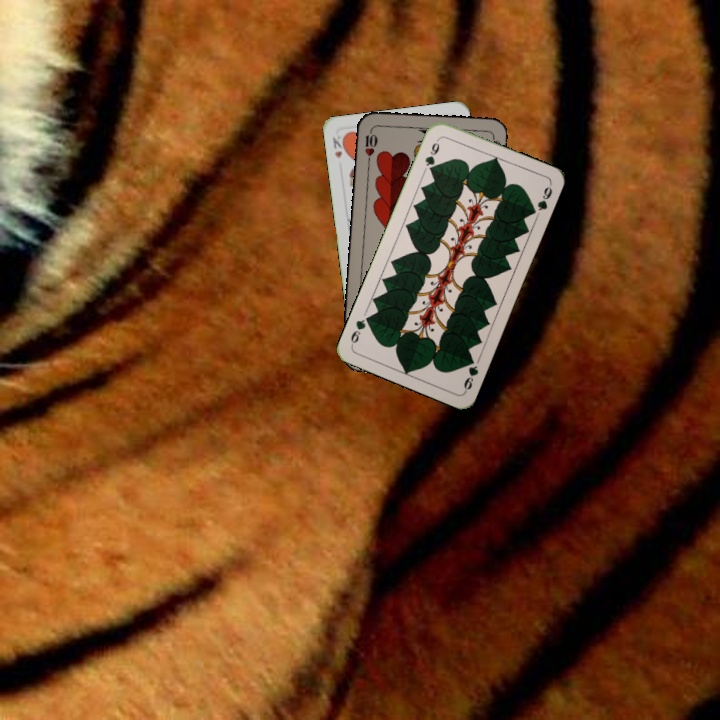G9: (460, 353, 481, 394), (421, 135, 442, 174)
H10: (361, 125, 380, 166)
HK: (328, 132, 349, 161)
